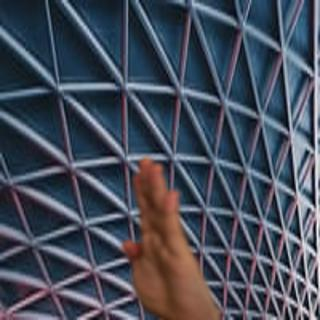RIGHT: (117, 151, 225, 320)
